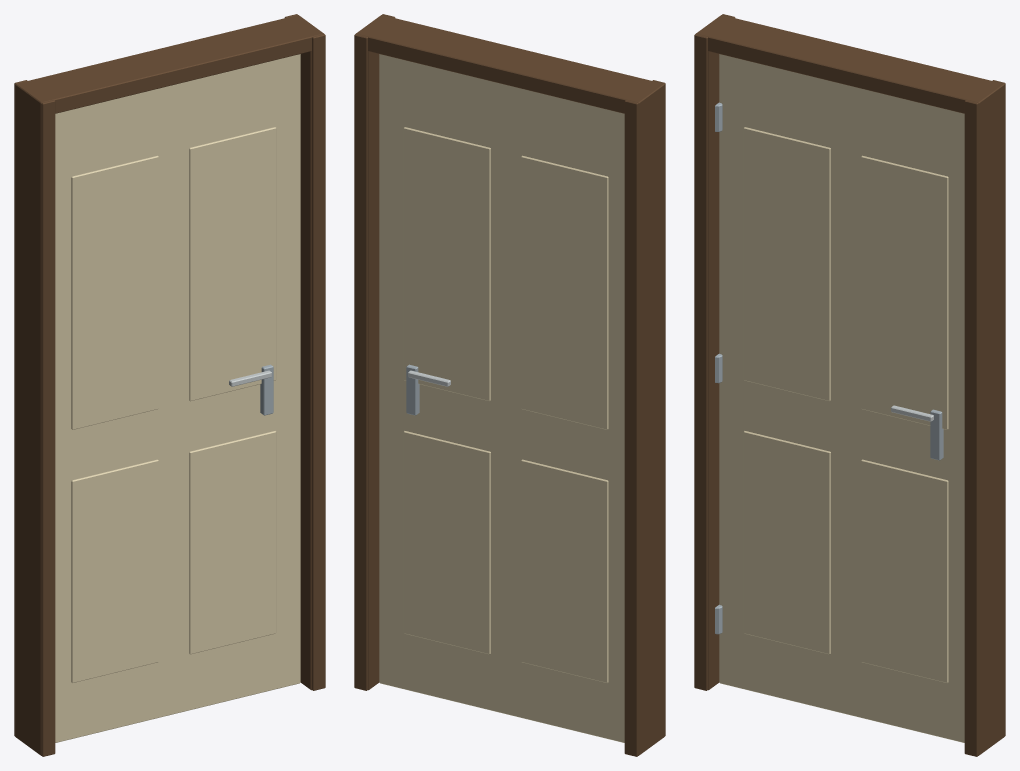
Rendered from b21_door_painted_panel.glb.
The picture shows the model from 3 angles, left to right: view 1: azimuth 30°, elevation 25°; view 2: azimuth 150°, elevation 25°; view 3: azimuth 330°, elevation 25°; orthographic projection.
Parts seen in each view (by area): view 1: b21_door_painted_panel; view 2: b21_door_painted_panel; view 3: b21_door_painted_panel.
Part boxes in pixels (bbox=[...]): b21_door_painted_panel: bbox=[14, 14, 325, 756]; b21_door_painted_panel: bbox=[354, 14, 665, 756]; b21_door_painted_panel: bbox=[694, 14, 1005, 756].
Bounding box in the file's own units: 1 × 2.2 × 0.176.
